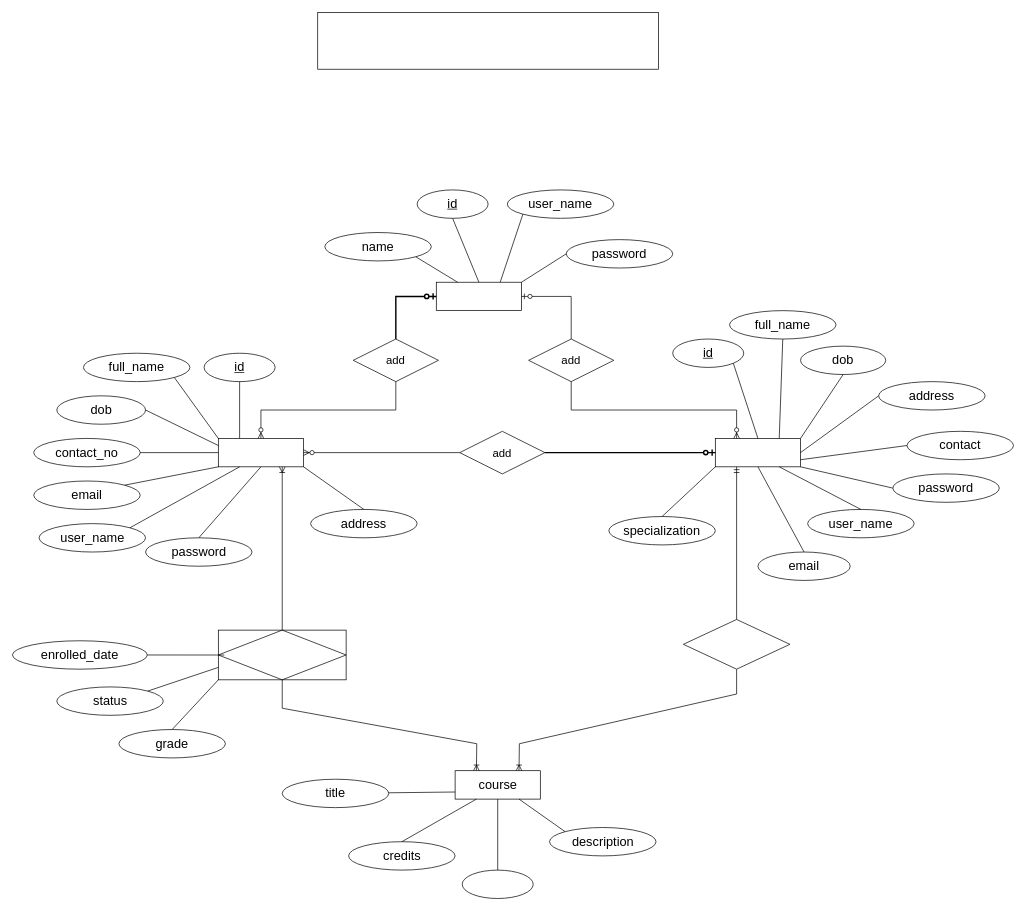
This 1026x911 diagram has some shape labels left out. Each missing label, with the centre of its shape:
"admin" goes at (x=478, y=296).
"code" goes at (x=497, y=884).
"enrollments" goes at (x=282, y=654).
"student" goes at (x=261, y=452).
"Student Management System ER Diagram" goes at (x=488, y=40).
"teacher" goes at (x=758, y=452).
"teaches" goes at (x=736, y=644).
